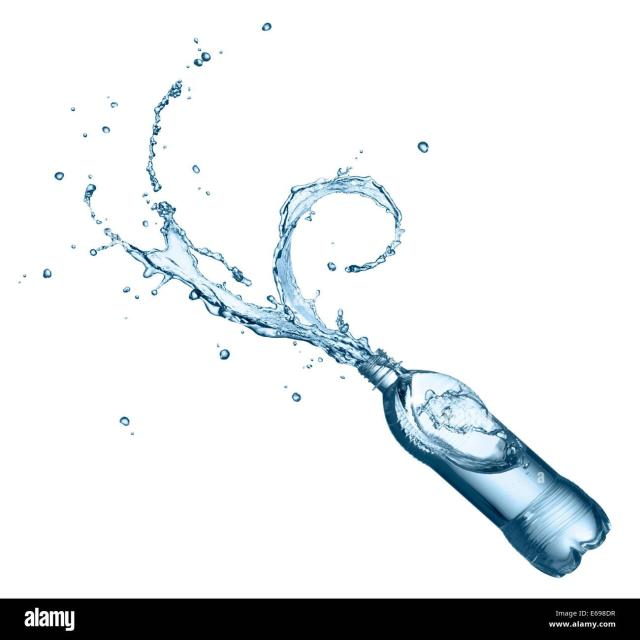bottle: (348, 342, 612, 584)
